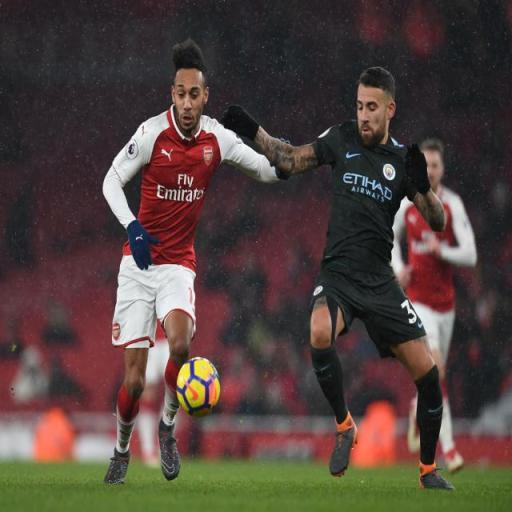Emirates: (154, 170, 206, 204)
